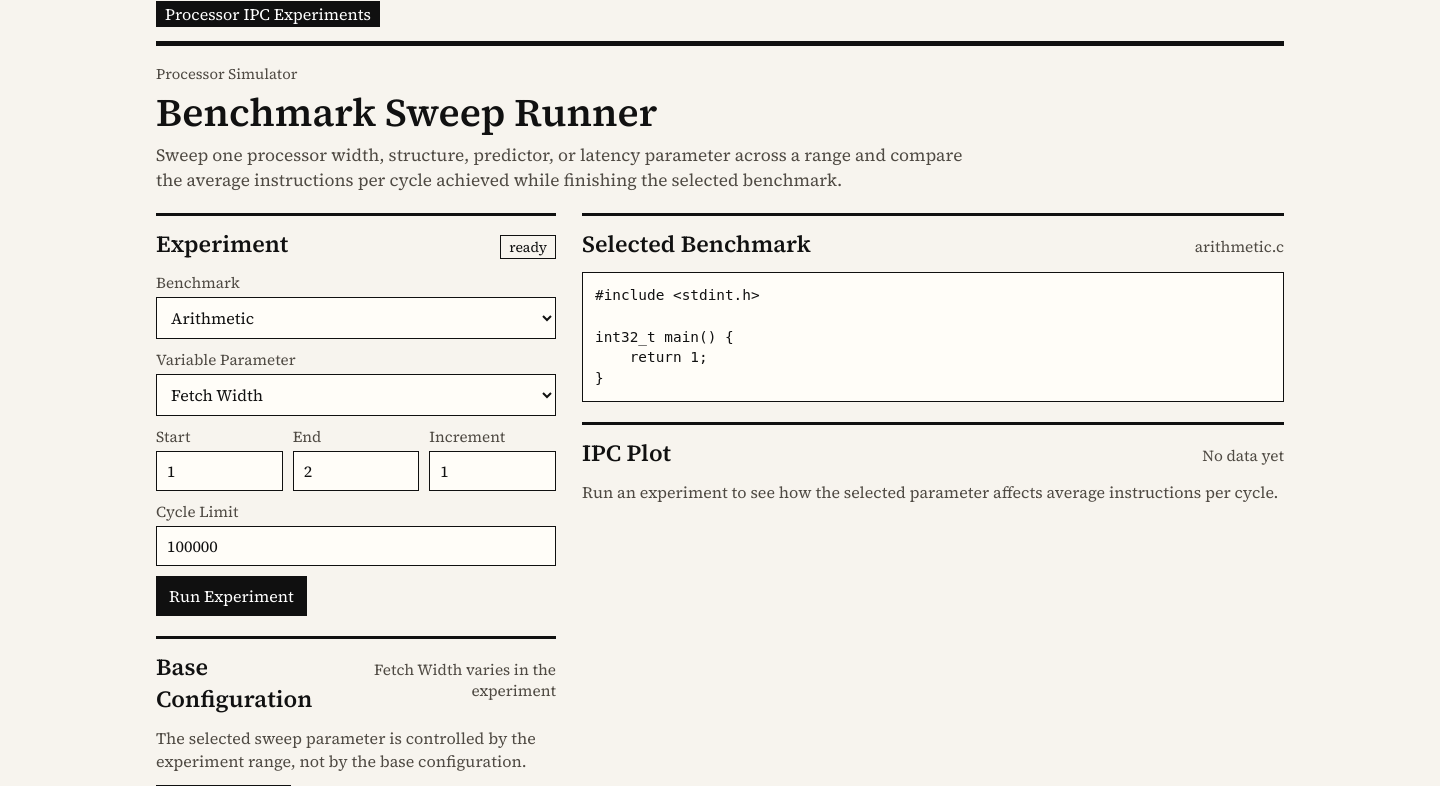
Test case: App › runs an experiment and renders the resulting ipc plot
Step 1. Click the button "Run Experiment" → (231, 596), box [156,576,307,616]
(page scrolled)
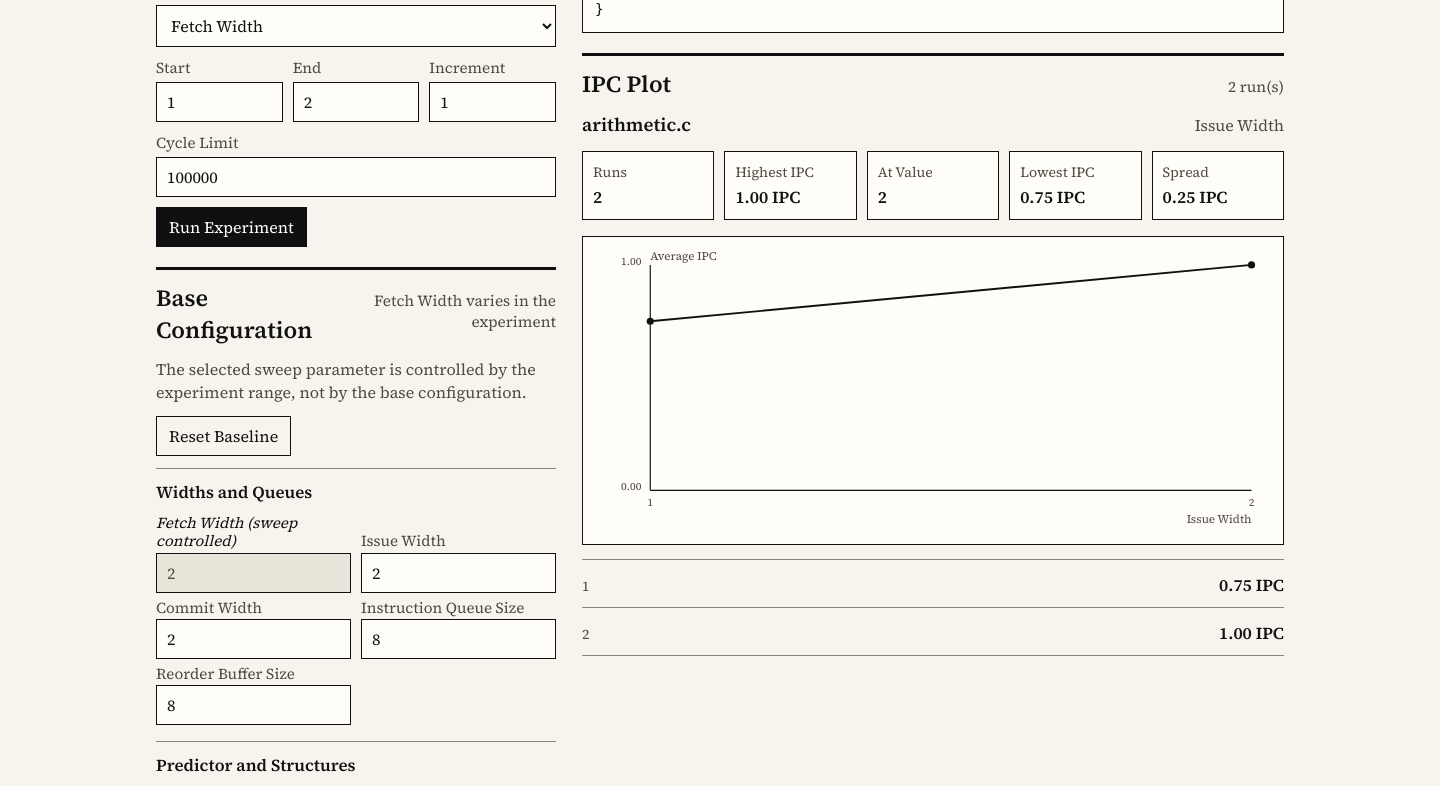
Expected: the text "0.75 IPC" is shown 2 times, [1020,186,1085,209]; [1219,574,1284,596]
Expected: the picture named "Experiment line chart" is shown, [593,247,1273,534]
